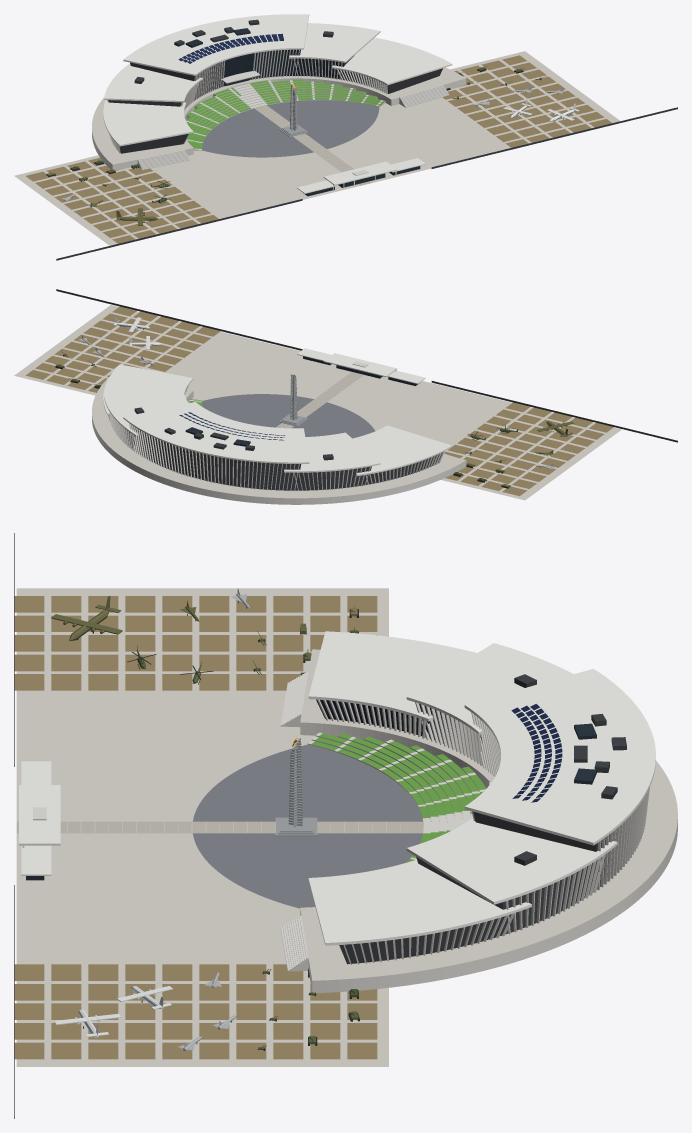
The model's file is military_museum.glb.
3 views of the same model, one above another, from view 1: azimuth 30°, elevation 25°; view 2: azimuth 150°, elevation 25°; view 3: azimuth 270°, elevation 25° (orthographic). The views are drawn at different scales.
Parts seen in each view (by area): view 1: Building, Plaza, Exhibits, Podium_Terraces, Gate, VictoryTower; view 2: Building, Exhibits, Plaza, Podium_Terraces, Gate, VictoryTower; view 3: Plaza, Exhibits, Building, Podium_Terraces, Gate, VictoryTower.
Boxes of the visible parts, bbox=[...] form: Building: bbox=[103, 14, 452, 153]; Plaza: bbox=[156, 99, 505, 217]; Exhibits: bbox=[14, 51, 620, 245]; Podium_Terraces: bbox=[92, 67, 466, 170]; Gate: bbox=[56, 107, 677, 260]; VictoryTower: bbox=[279, 84, 308, 137]; Building: bbox=[103, 364, 452, 491]; Exhibits: bbox=[14, 305, 621, 500]; Plaza: bbox=[170, 333, 506, 444]; Podium_Terraces: bbox=[92, 377, 466, 504]; Gate: bbox=[56, 289, 677, 442]; VictoryTower: bbox=[279, 374, 308, 426]; Plaza: bbox=[16, 695, 423, 959]; Exhibits: bbox=[14, 588, 388, 1066]; Building: bbox=[308, 631, 655, 964]; Podium_Terraces: bbox=[280, 649, 677, 992]; Gate: bbox=[14, 533, 60, 1118]; VictoryTower: bbox=[275, 737, 317, 836].
Size of the model in its own units: 596 by 42.44 by 287.
